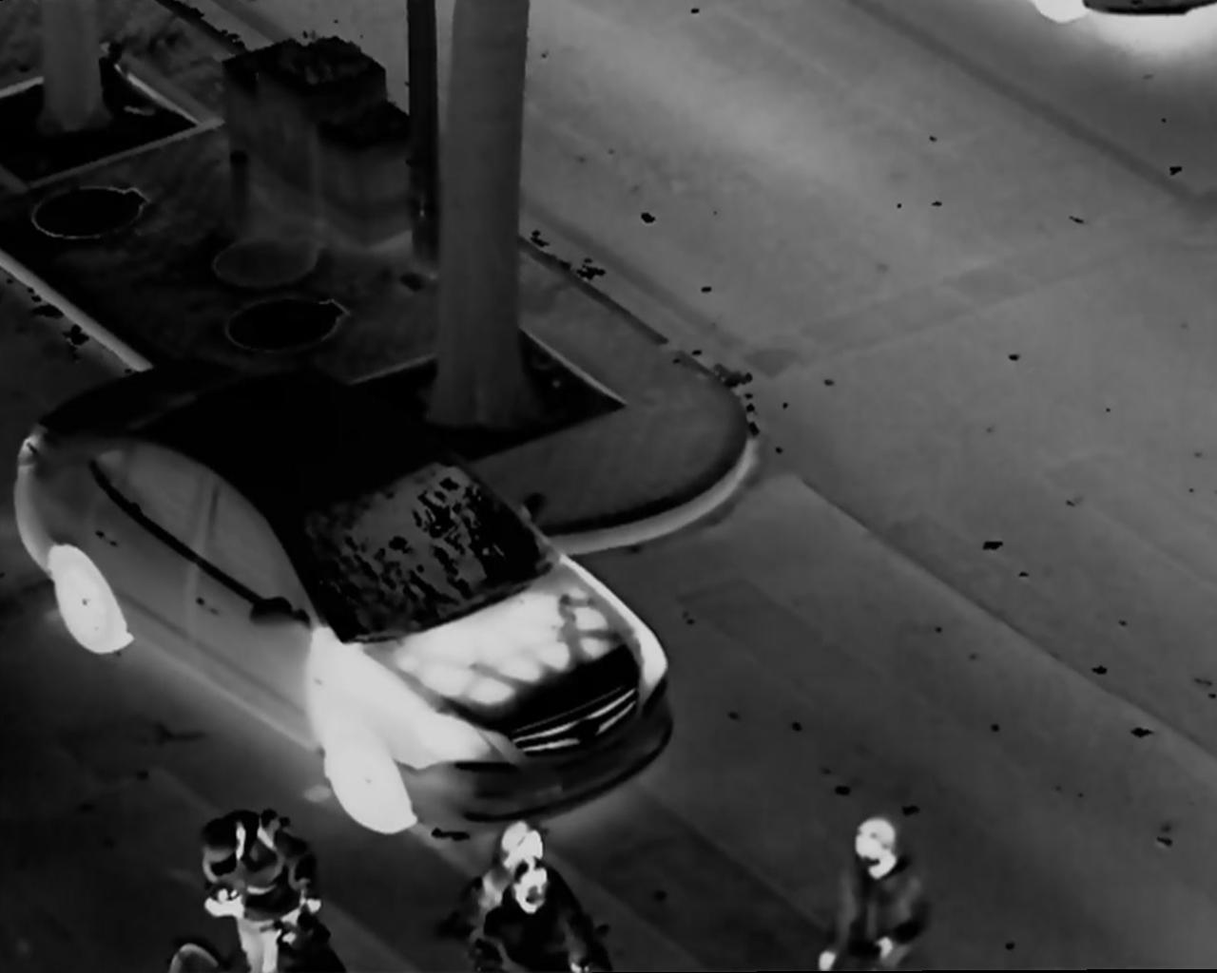person: (819, 808, 966, 973), (195, 801, 334, 973), (470, 816, 598, 973)
